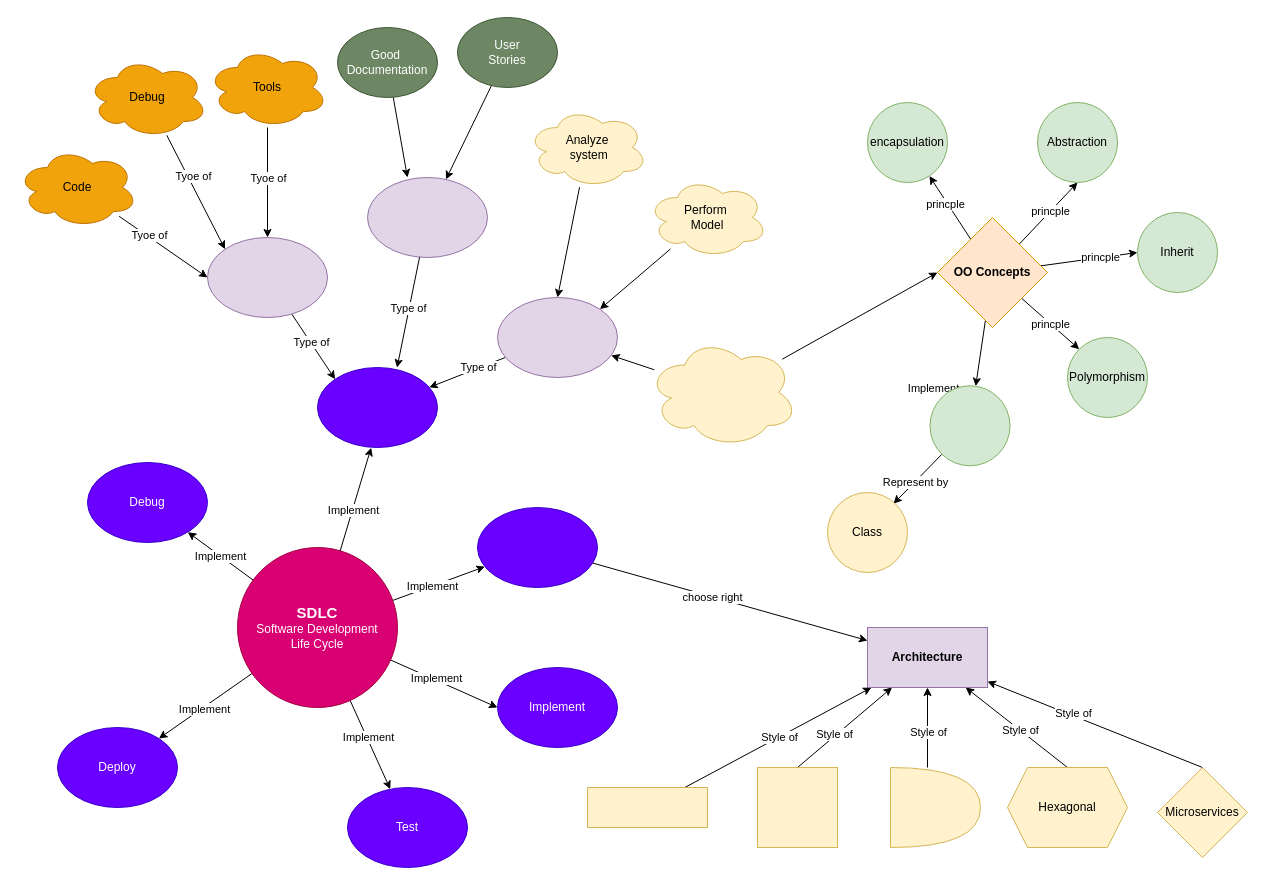
Image size: 1265x885. Some labels were removed from this diagram. Each missing label, with the centre of its shape:
"Analysis" goes at pixel 377 407.
"Component Based" goes at pixel 935 807.
"Design" goes at pixel 537 547.
"Design Analysis" goes at pixel 557 337.
"Layered" goes at pixel 647 807.
"Monolithic Application" goes at pixel 797 807.
"Objects" goes at pixel 969 425.
"OO Analysis" goes at pixel 722 392.
"Requirements Analysis" goes at pixel 427 217.
"Software Analysis" goes at pixel 267 277.
